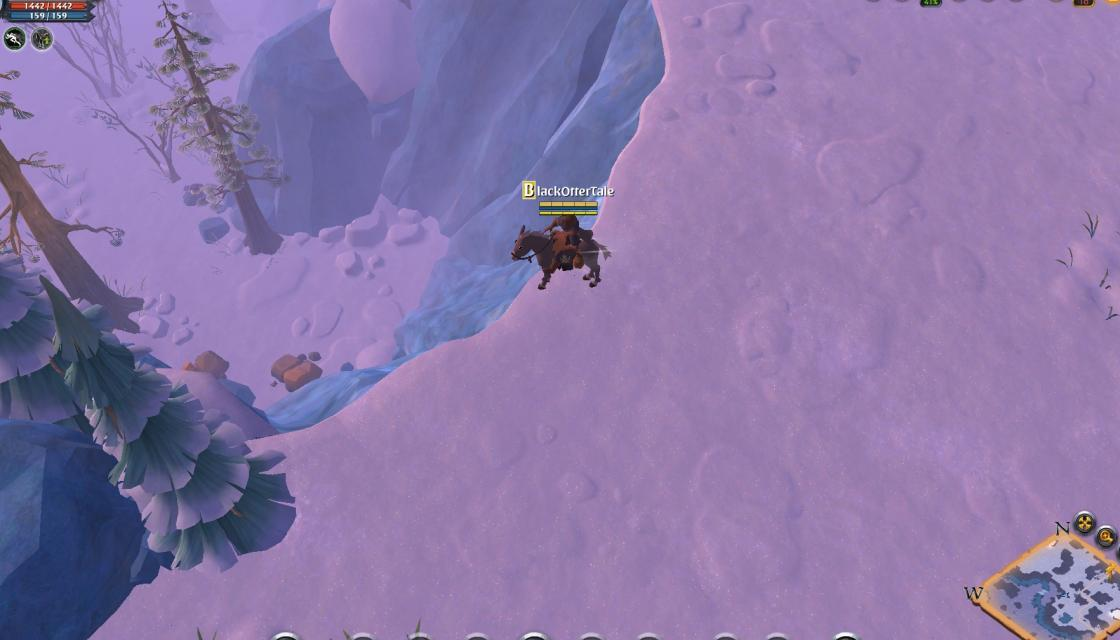limestone: (264, 350, 325, 396), (177, 345, 230, 384)
